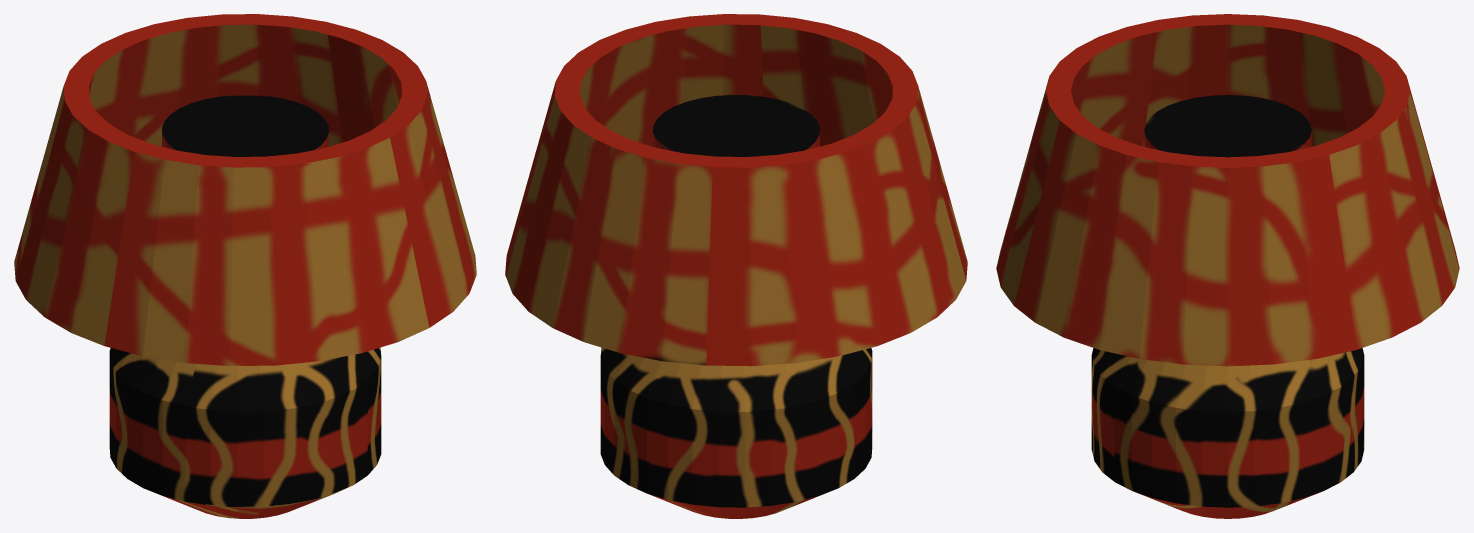
Rendered from lamp_02.glb.
3 renders of one model, left to right at view 1: azimuth 30°, elevation 25°; view 2: azimuth 150°, elevation 25°; view 3: azimuth 270°, elevation 25°, orthographic.
Parts seen in each view (by area): view 1: Cylinder; view 2: Cylinder; view 3: Cylinder.
Boxes of the visible parts, <box> form: Cylinder: <box>14,14,476,518</box>; Cylinder: <box>505,14,967,518</box>; Cylinder: <box>996,14,1459,518</box>.
Size of the model in its own units: 2.61 by 2.49 by 2.61.
1 material, 1 textured.
